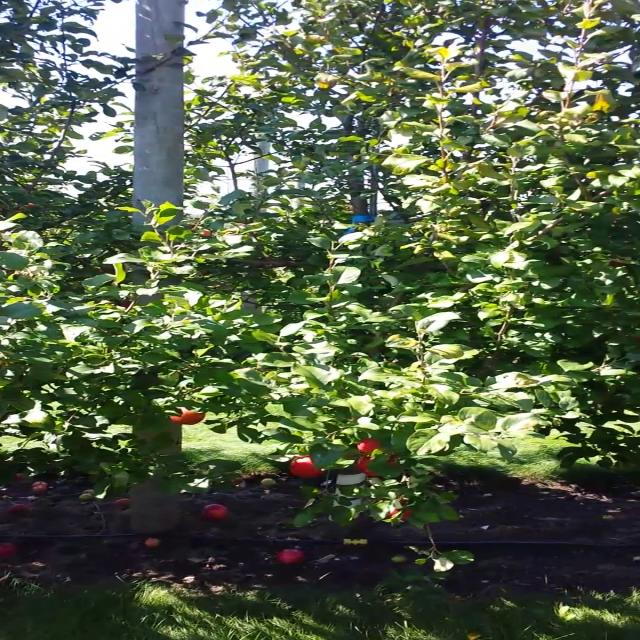apple: (355, 454, 399, 478), (166, 406, 204, 426), (290, 456, 324, 478), (353, 437, 381, 455), (384, 502, 411, 520)
